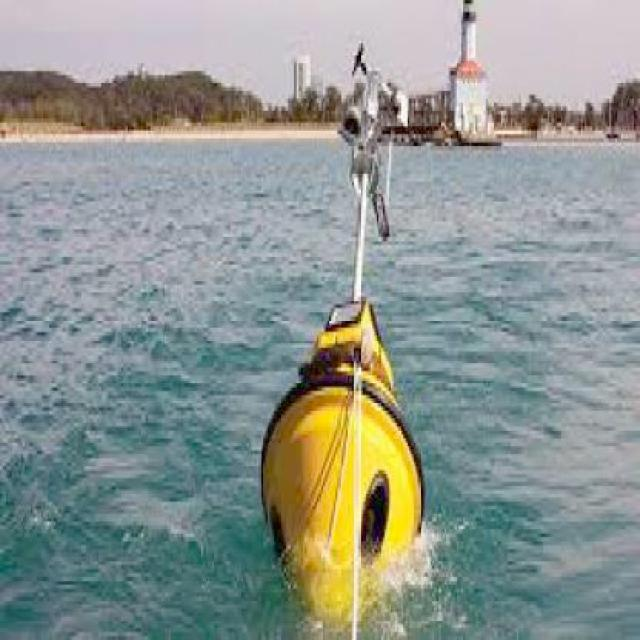no-oil: (28, 148, 640, 640)
